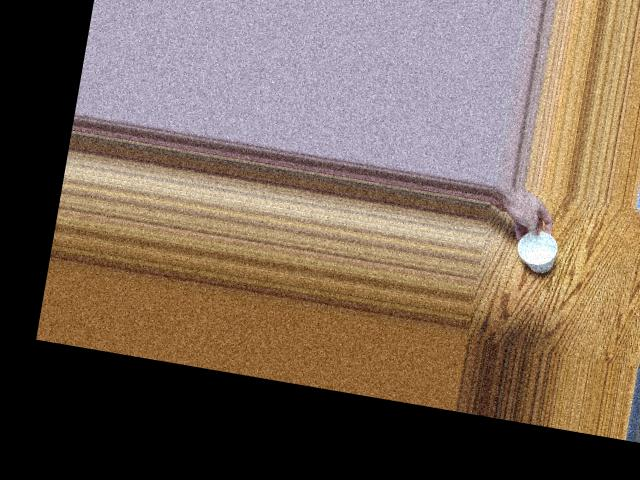cotage: (512, 223, 559, 268)
